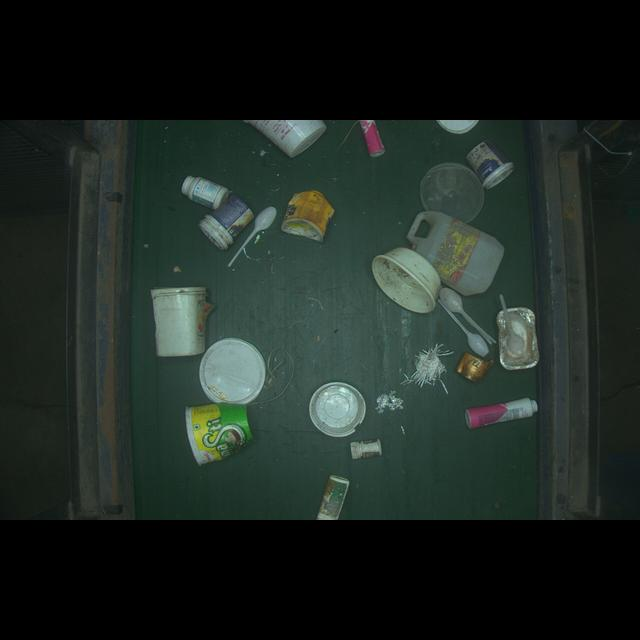PP: (147, 279, 219, 362)
